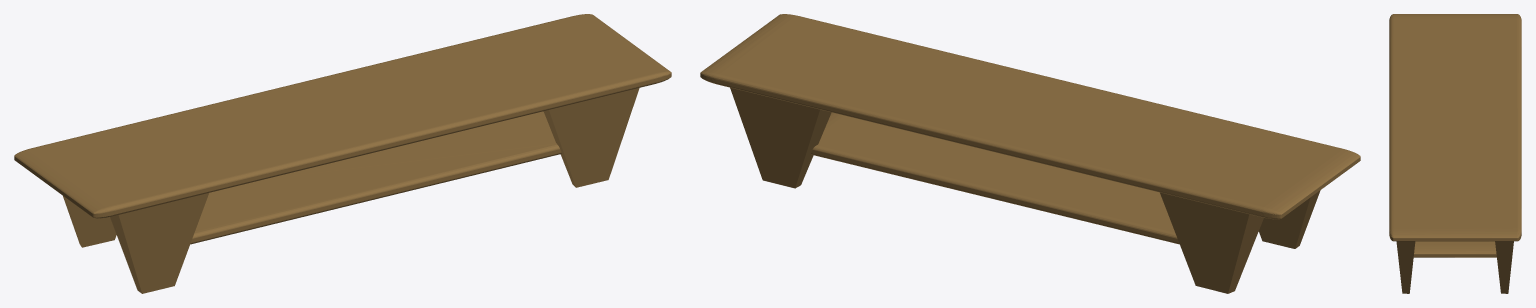
File: long_table_1.glb
3 renders of one model, left to right at view 1: azimuth 30°, elevation 25°; view 2: azimuth 150°, elevation 25°; view 3: azimuth 270°, elevation 25°, orthographic. The views are drawn at different scales.
Parts seen in each view (by area): view 1: Mesh_Mesh_head_geo.001_lambert2SG.001; view 2: Mesh_Mesh_head_geo.001_lambert2SG.001; view 3: Mesh_Mesh_head_geo.001_lambert2SG.001.
Part boxes in pixels (x1,y1,x2,y2): Mesh_Mesh_head_geo.001_lambert2SG.001: (14,14,671,293); Mesh_Mesh_head_geo.001_lambert2SG.001: (700,14,1360,293); Mesh_Mesh_head_geo.001_lambert2SG.001: (1389,14,1521,293).
Size of the model in its own units: 12 by 2 by 3.
